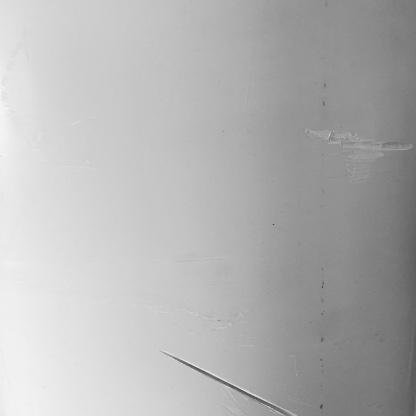sunshang: (155, 342, 310, 415), (298, 120, 413, 162)
